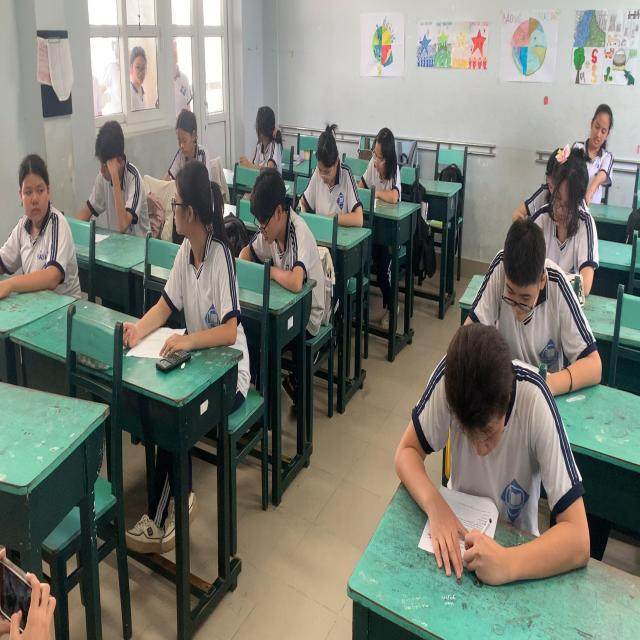cheating: (142, 141, 252, 379), (0, 117, 89, 325)
not_cheating: (374, 334, 582, 502), (446, 170, 566, 373), (222, 105, 321, 304), (69, 69, 161, 251), (532, 91, 608, 267), (286, 102, 373, 255), (344, 64, 430, 212), (156, 69, 242, 212), (228, 52, 310, 192), (578, 45, 619, 224)
